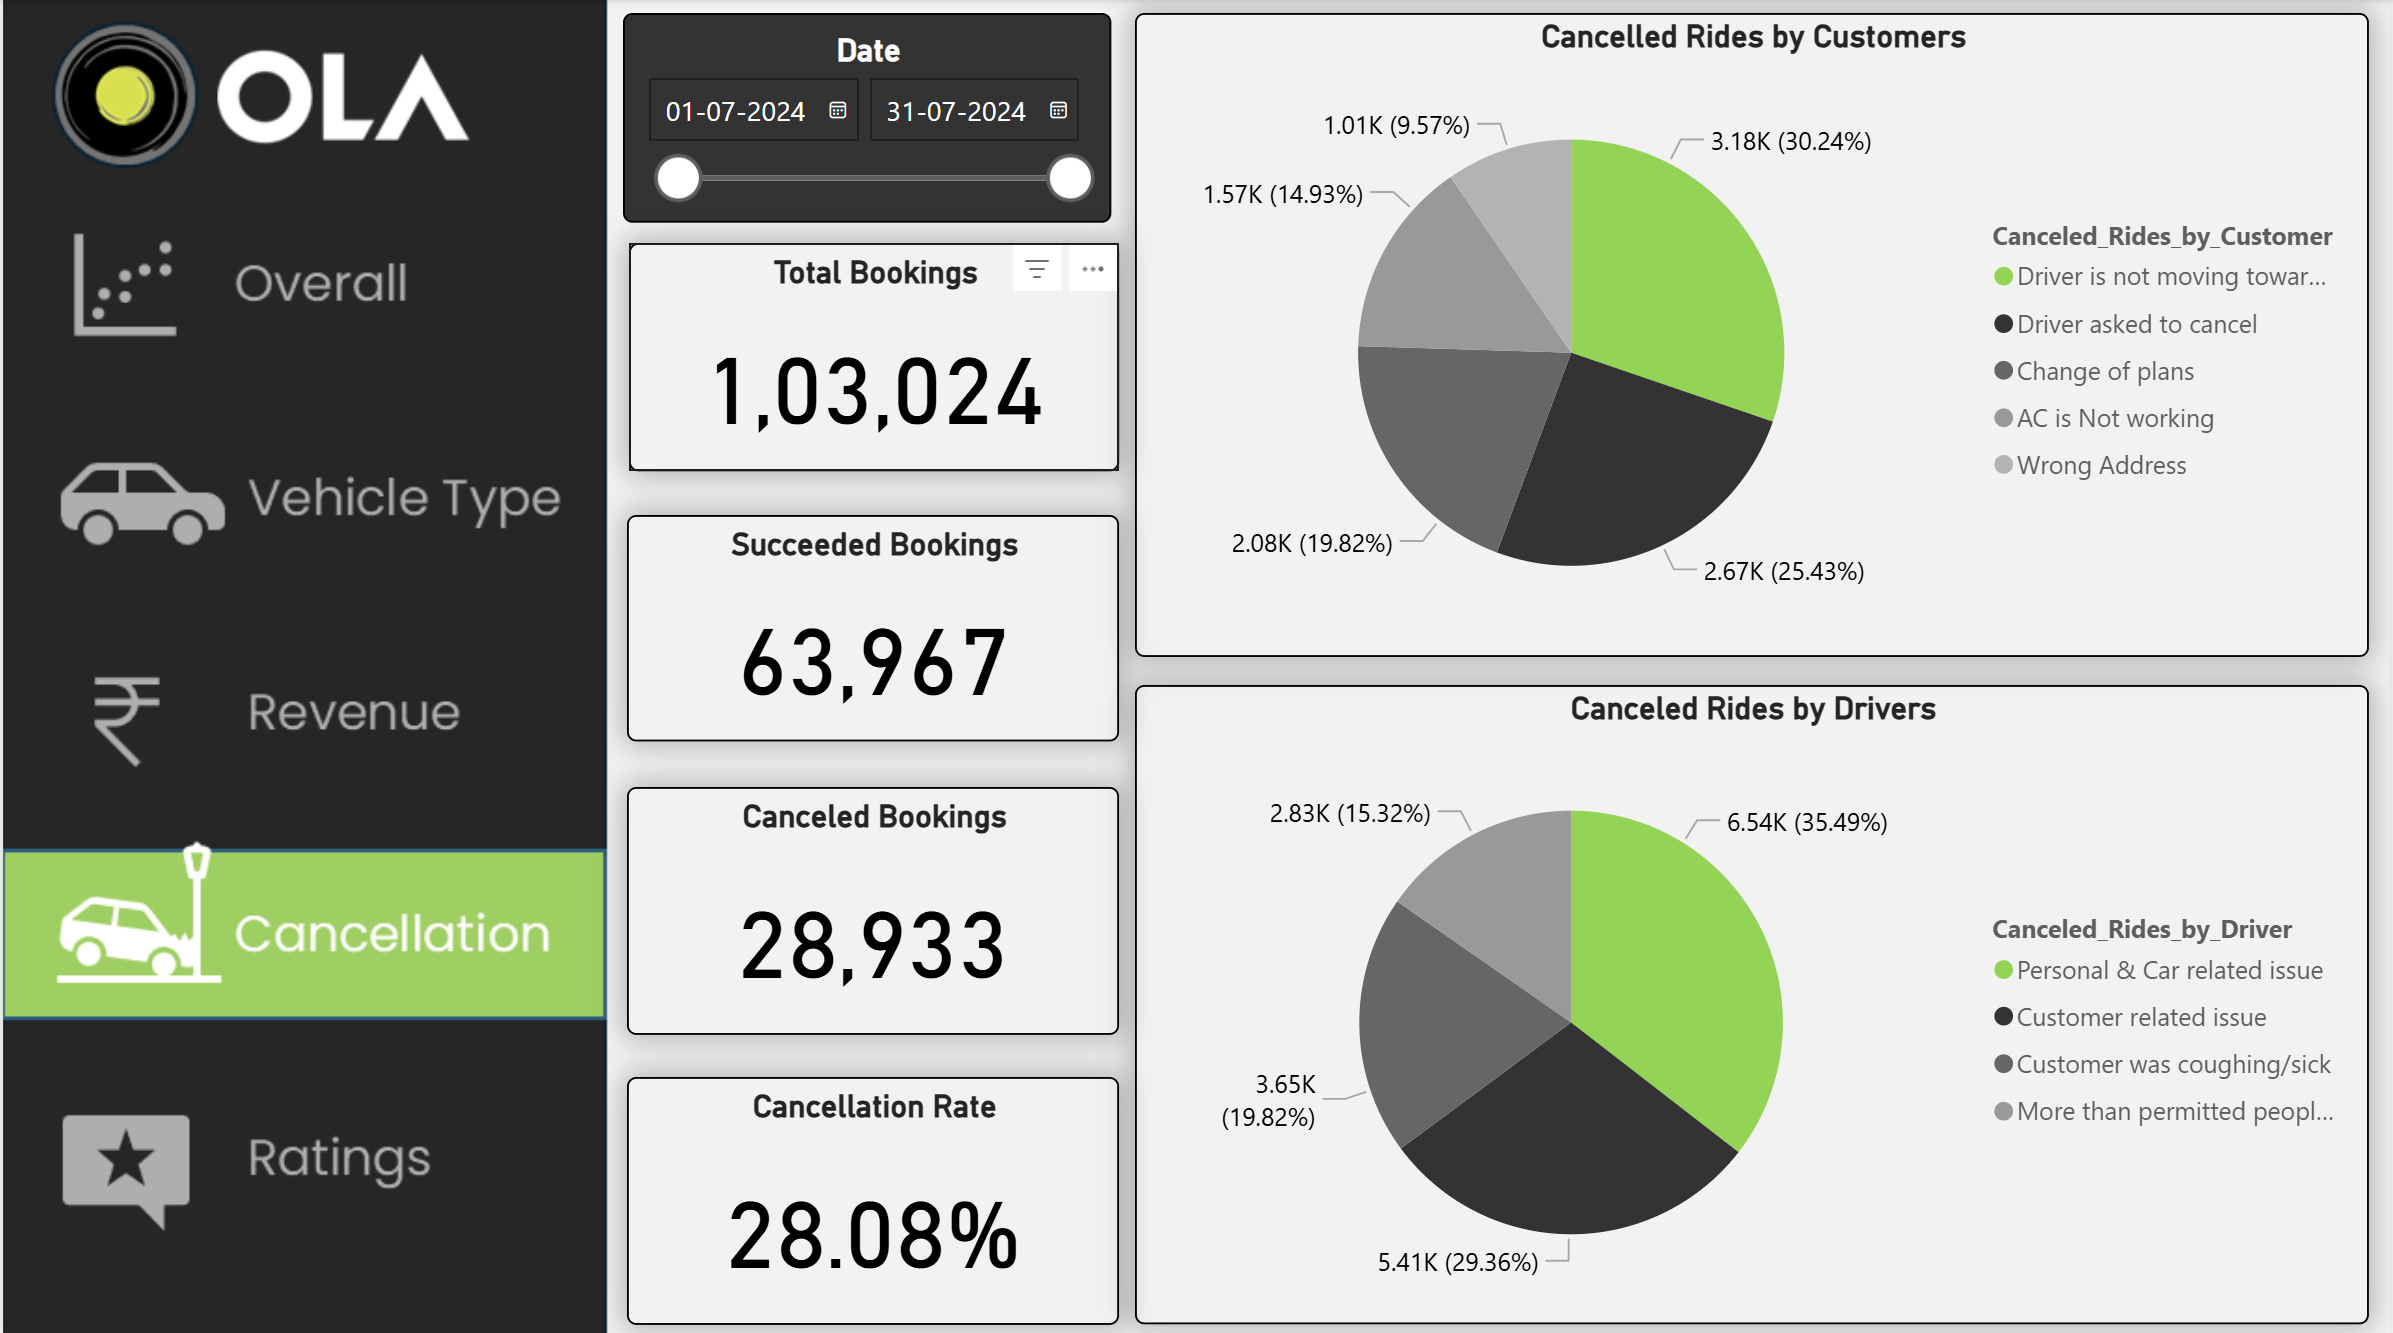

Layout of this report page (visuals, bound fields, positions):
{"tool":"powerbi","page":{"name":"Cancellation","canvas":[1280,720],"ordinal":3},"visuals":[{"type":"actionButton","box":[0,213.7,322.8,95.7],"z":0},{"type":"actionButton","box":[0,338.4,322.8,93.5],"z":1000},{"type":"actionButton","box":[0,454.1,322.8,93.5],"z":2000},{"type":"actionButton","box":[0,581,322.8,93.5],"z":3000},{"type":"actionButton","box":[0,105.7,322.8,93.5],"z":4000},{"type":"pieChart","title":"Cancelled Rides by Customers","fields":{"Y":["CountNonNull(July.Canceled_Rides_by_Customer)"],"Category":["July.Canceled_Rides_by_Customer"]},"box":[607.3,7.5,662.1,345.5],"z":5000},{"type":"pieChart","title":"Canceled Rides by Drivers","fields":{"Category":["July.Canceled_Rides_by_Driver"],"Y":["CountNonNull(July.Canceled_Rides_by_Driver)"]},"box":[607.7,368.5,661.9,343.1],"z":6000},{"type":"slicer","title":"Date","fields":{"Values":["July.Date"]},"box":[332.6,7.5,261.8,112.7],"z":7000},{"type":"card","title":"Total Bookings","fields":{"Values":["CountNonNull(July.Booking_Status)"]},"box":[335.9,130.9,262.9,122.3],"z":8000},{"type":"card","title":"Succeeded Bookings","fields":{"Values":["CountNonNull(July.Booking_Status)"]},"box":[334.8,276.8,264,121.3],"z":9000},{"type":"card","title":"Canceled Bookings","fields":{"Values":["CountNonNull(July.Booking_Status)"]},"box":[334.8,422.8,264,133.1],"z":10000},{"type":"card","title":"Cancellation Rate","fields":{"Values":["July.Cancel_percentage"]},"box":[334.8,578.4,264,133.1],"z":11000}]}

Visuals, with their boxes in screenshot pixels (x1, y1, x2, y2), scaled from the page's 1280x720 canvas onto the 2393x1333 screenshot:
actionButton: (left=0, top=396, right=603, bottom=573)
actionButton: (left=0, top=627, right=603, bottom=800)
actionButton: (left=0, top=841, right=603, bottom=1014)
actionButton: (left=0, top=1076, right=603, bottom=1249)
actionButton: (left=0, top=196, right=603, bottom=369)
"Cancelled Rides by Customers" pieChart: (left=1135, top=14, right=2373, bottom=654)
"Canceled Rides by Drivers" pieChart: (left=1136, top=682, right=2374, bottom=1317)
"Date" slicer: (left=622, top=14, right=1111, bottom=223)
"Total Bookings" card: (left=628, top=242, right=1119, bottom=469)
"Succeeded Bookings" card: (left=626, top=512, right=1119, bottom=737)
"Canceled Bookings" card: (left=626, top=783, right=1119, bottom=1029)
"Cancellation Rate" card: (left=626, top=1071, right=1119, bottom=1317)
